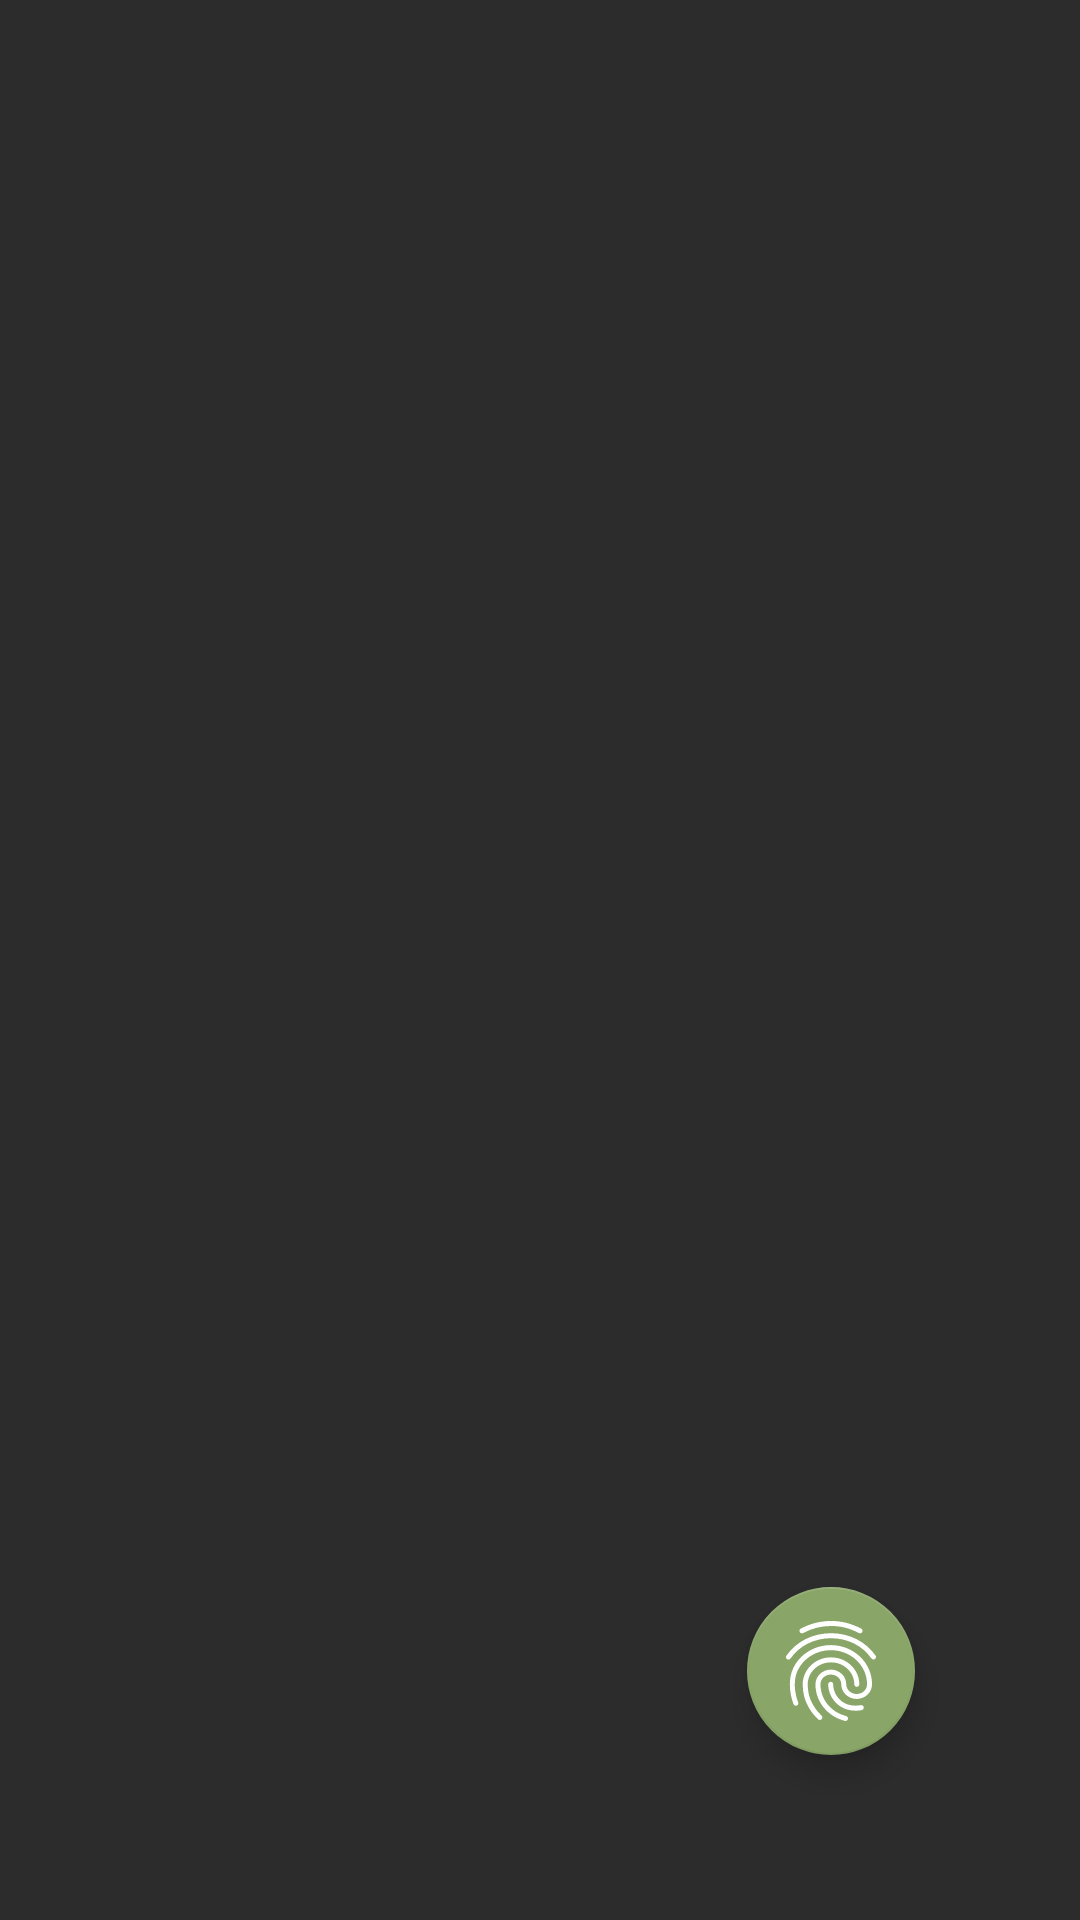

Screen size 1080×1920. Icon name, then its box in pixels as (x1, y1, x2, y2):
fingerprint: (747, 1587, 915, 1755)
